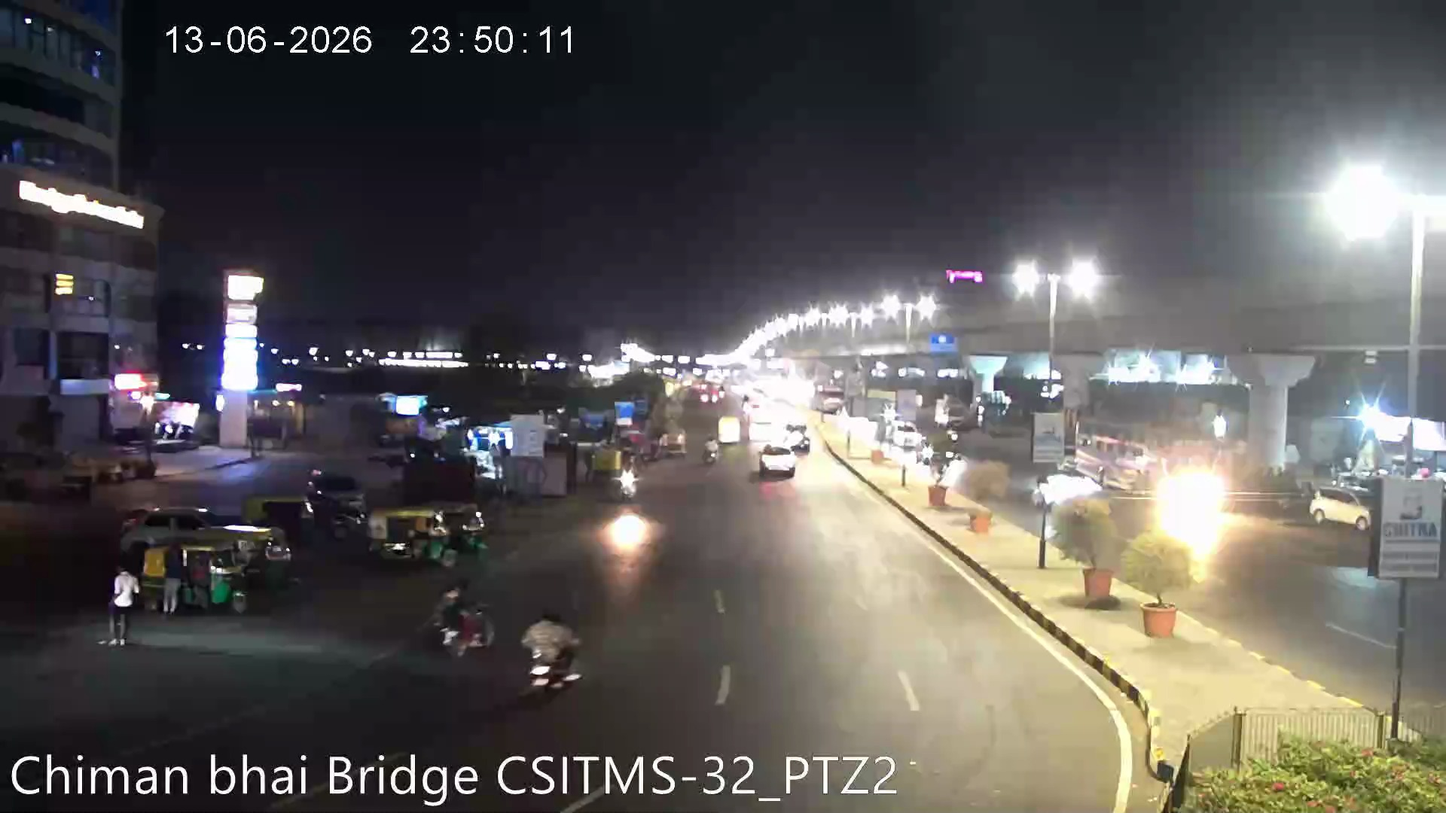auto_rickshaw: (129, 529, 257, 617), (197, 507, 300, 594), (364, 501, 454, 567), (424, 495, 491, 555), (716, 412, 745, 445)
car: (1030, 465, 1106, 519), (1308, 486, 1374, 531), (757, 442, 798, 480)
pedestrian: (103, 565, 138, 651)
two_wheeler: (513, 606, 589, 699), (421, 584, 498, 661), (614, 459, 643, 504)
